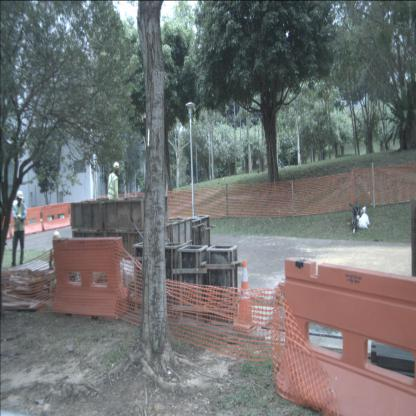movable_object-barrier: (278, 258, 416, 415), (51, 237, 128, 319), (9, 207, 44, 238), (41, 204, 70, 232)
movable_object-trafficcone: (235, 259, 258, 333)
